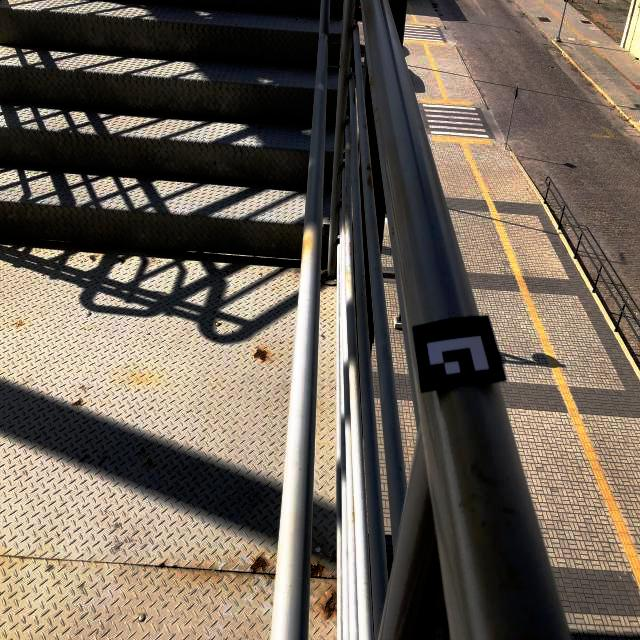Corrosion: (74, 242, 203, 259), (322, 590, 337, 619), (249, 558, 269, 573), (311, 561, 326, 578), (252, 347, 267, 361), (204, 252, 216, 261), (71, 398, 82, 407), (366, 160, 372, 172), (89, 255, 97, 262), (16, 320, 23, 327), (158, 563, 167, 568), (147, 458, 152, 466), (172, 564, 179, 569), (268, 574, 275, 578), (331, 574, 336, 579), (119, 259, 125, 263), (218, 322, 222, 327), (111, 263, 114, 266)
